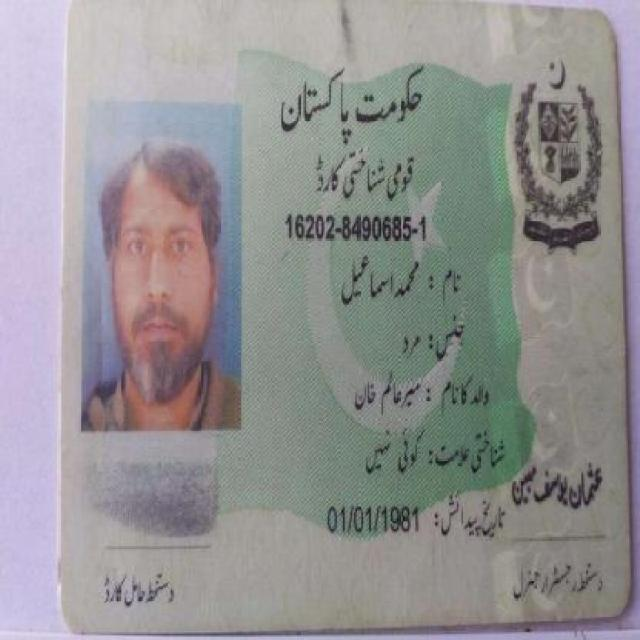Front: (49, 4, 629, 618)
